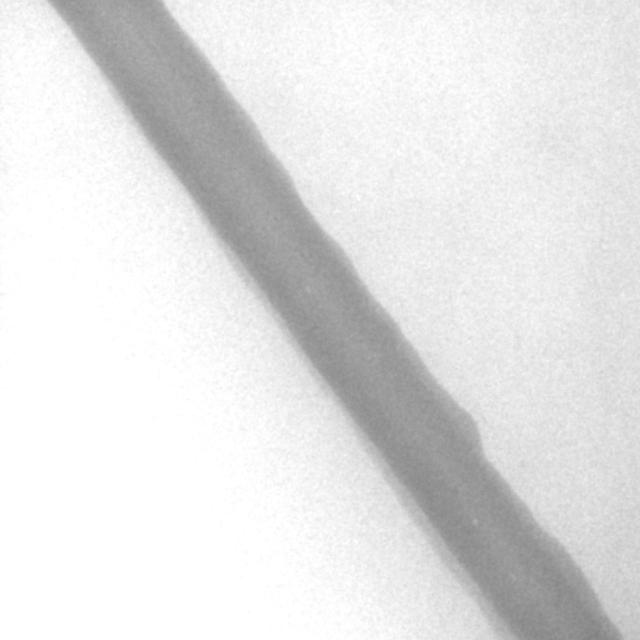air-hole: (473, 518, 480, 528), (508, 574, 518, 578)
